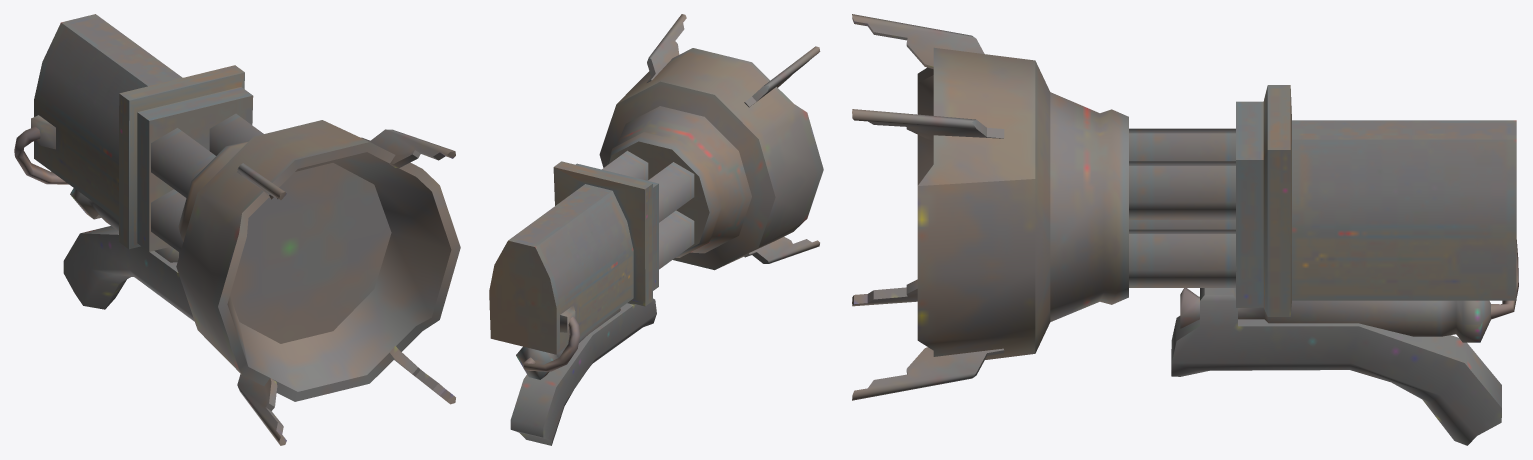
File: stock3.obj
3 views of the same model, side by side, from view 1: azimuth 30°, elevation 25°; view 2: azimuth 150°, elevation 25°; view 3: azimuth 270°, elevation 25° (orthographic). The views are drawn at different scales.
Visible parts, largest first — view 1: stock3; view 2: stock3; view 3: stock3.
Part boxes in pixels (x1,y1,x2,y2): stock3: (14,14,460,445); stock3: (489,14,823,445); stock3: (852,14,1518,445).
Size of the model in its own units: 21.86 by 28.4 by 45.37.
